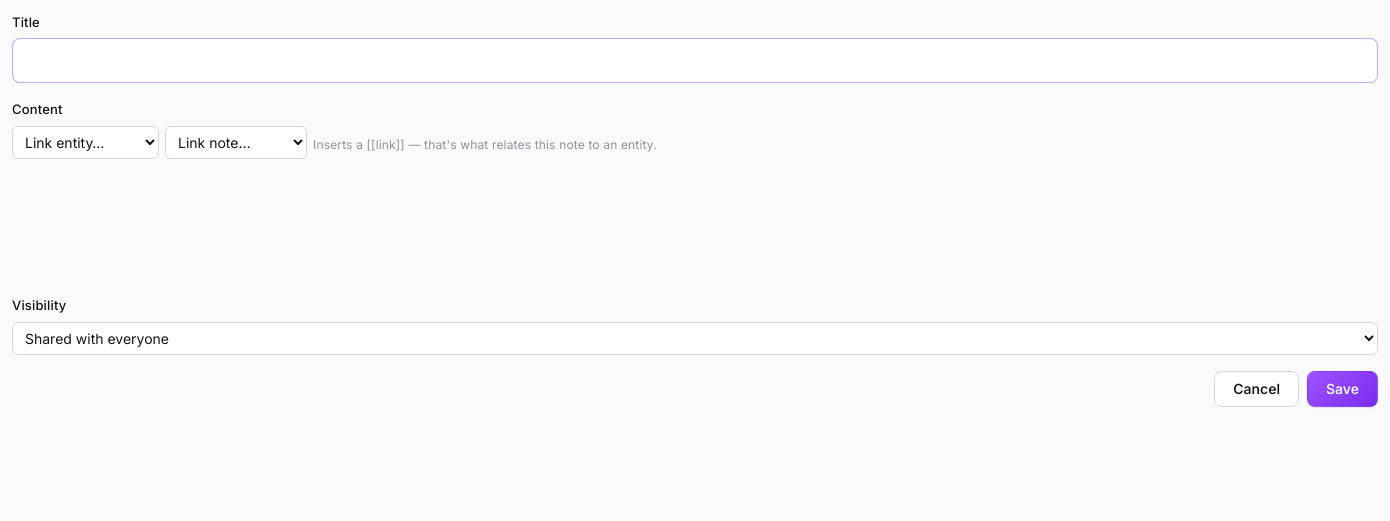
Scenario: NoteFormWindow › does not offer the current user as a recipient
Select "Handout for specific players" in the dropdown labelled "Visibility" at (695, 338), box [12, 322, 1378, 354]
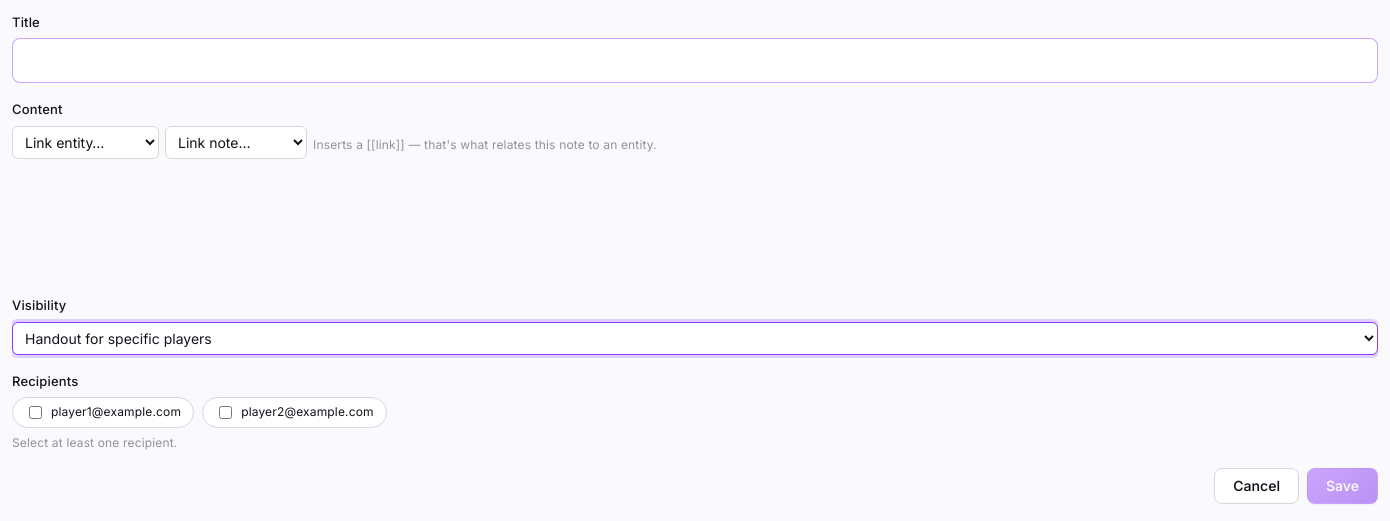
Expected: the checkbox labelled "player1@example.com" is shown, [29, 406, 42, 419]
